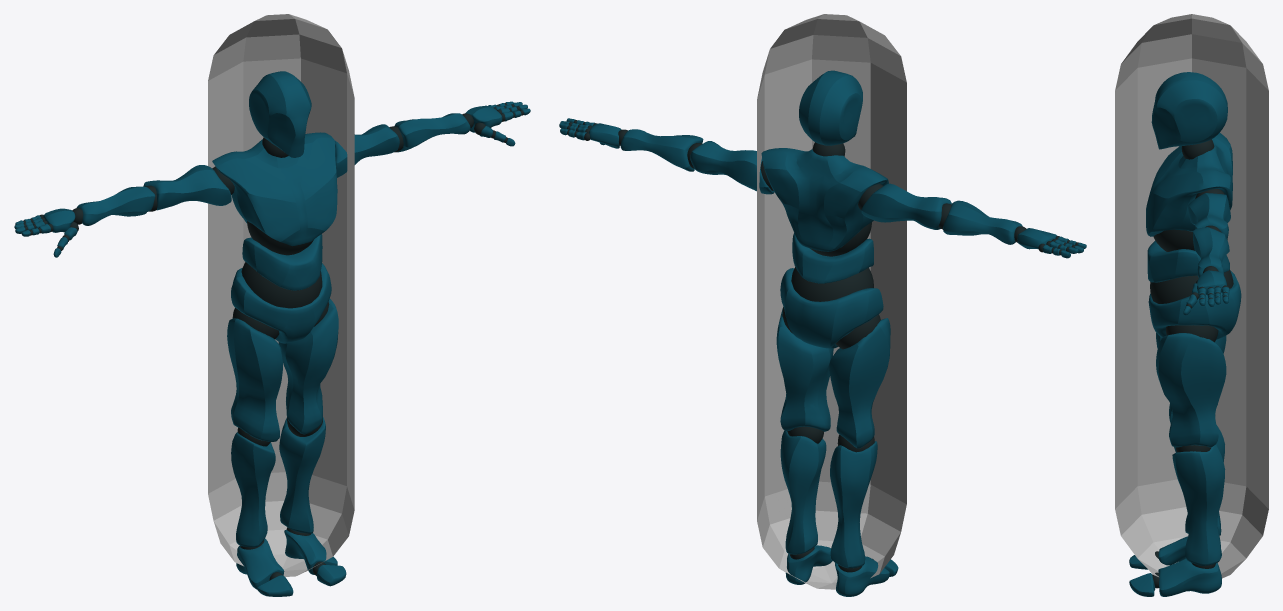
File: character.glb
3 views of the same model, side by side, from view 1: azimuth 30°, elevation 25°; view 2: azimuth 150°, elevation 25°; view 3: azimuth 270°, elevation 25° (orthographic). The views are drawn at different scales.
Visible parts, largest first — view 1: mixamorig:Skin, Third Person; view 2: mixamorig:Skin, Third Person; view 3: Third Person, mixamorig:Skin.
Part boxes in pixels (box(x1,y1,x2,y2)): mixamorig:Skin: box(14, 71, 530, 596); Third Person: box(208, 14, 354, 576); mixamorig:Skin: box(559, 70, 1086, 596); Third Person: box(757, 14, 906, 589); Third Person: box(1115, 14, 1268, 578); mixamorig:Skin: box(1129, 72, 1241, 596).
Size of the model in its own units: 1.95 by 2 by 0.5.
